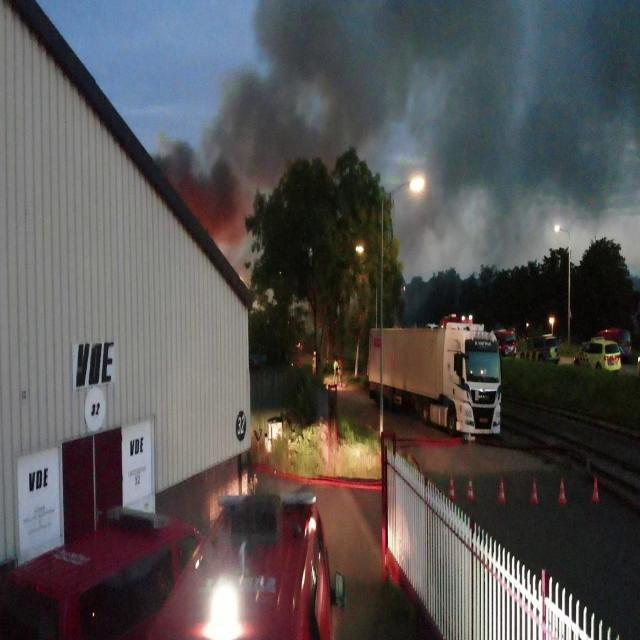Smoke: (148, 0, 640, 288)
